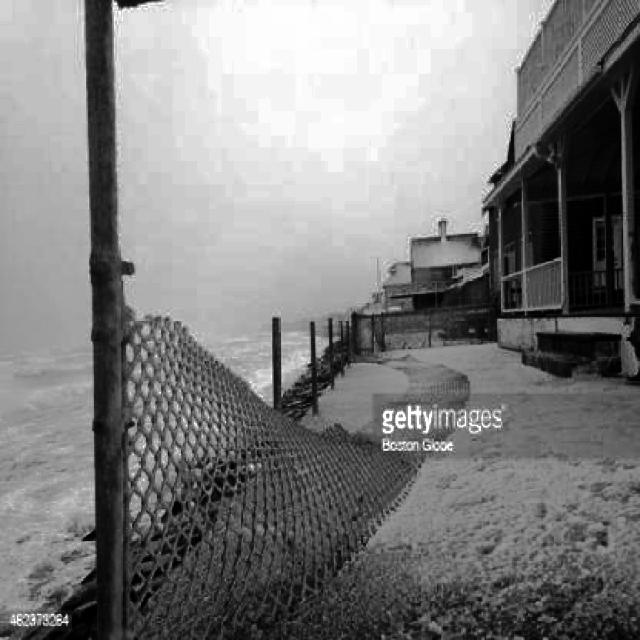anomaly-fence: (101, 312, 474, 620)
